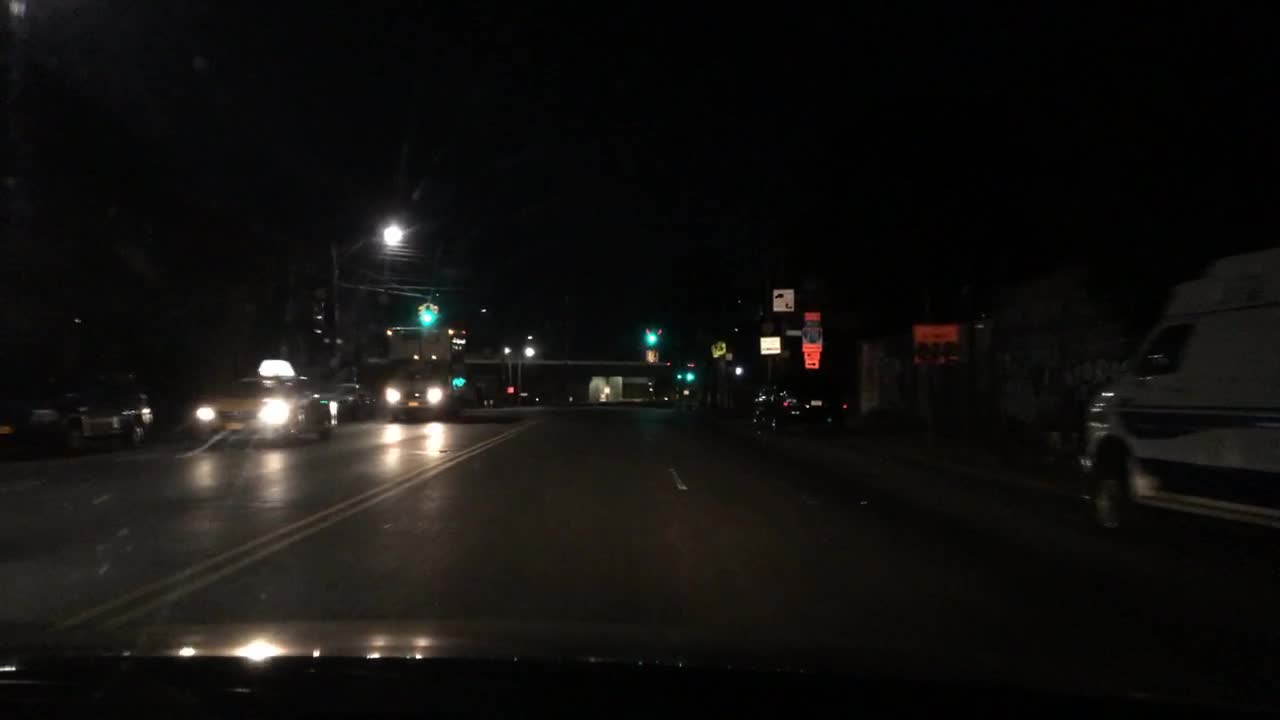car: (1073, 248, 1278, 531), (1, 368, 152, 457), (193, 357, 328, 439), (751, 368, 852, 429), (382, 361, 471, 421), (325, 379, 380, 423)
traffic light: (416, 300, 438, 324), (678, 369, 695, 383), (645, 326, 658, 344)
traffic sign: (910, 321, 963, 365), (771, 287, 795, 313), (803, 326, 824, 353), (760, 334, 782, 355), (710, 337, 727, 355), (803, 352, 819, 370), (803, 311, 823, 324)
